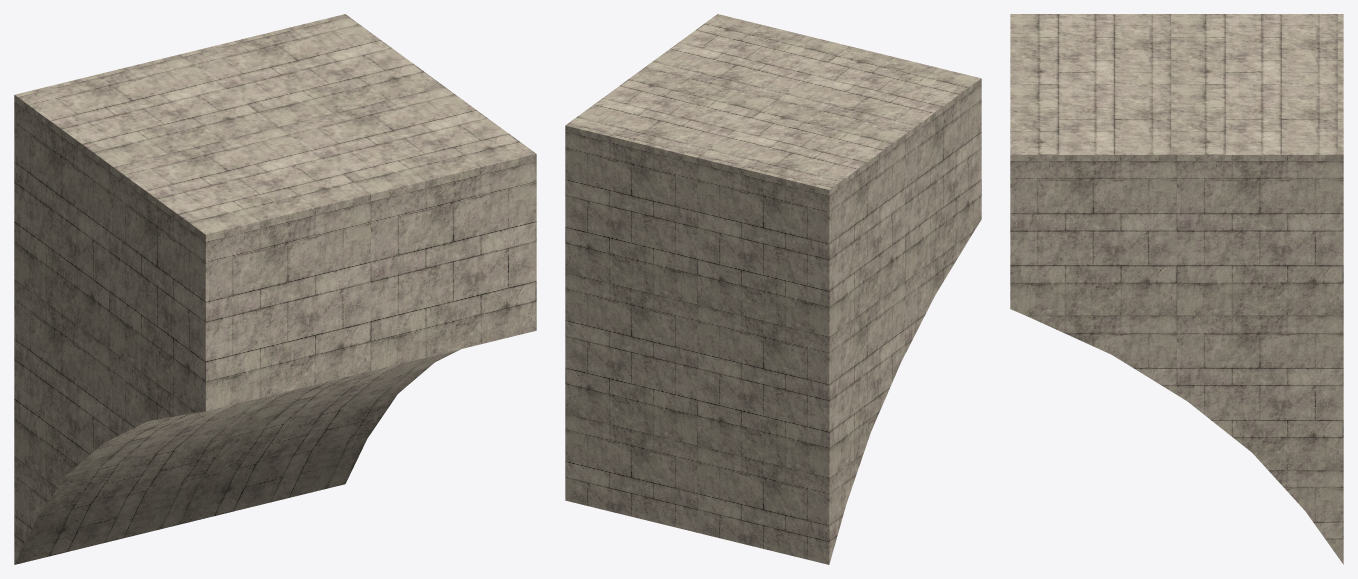
The model's file is AbutmentMarbleCenter.dae.
The picture shows the model from 3 angles, left to right: view 1: azimuth 30°, elevation 25°; view 2: azimuth 150°, elevation 25°; view 3: azimuth 270°, elevation 25°; orthographic projection. The views are drawn at different scales.
Visible parts, largest first — view 1: AbutmentMarbleCenter; view 2: AbutmentMarbleCenter; view 3: AbutmentMarbleCenter.
Boxes of the visible parts, x1,y1,x2,y2 form: AbutmentMarbleCenter: (14, 14, 536, 564); AbutmentMarbleCenter: (565, 14, 981, 564); AbutmentMarbleCenter: (1010, 14, 1343, 564).
Bounding box in the file's own units: 4 × 5.43 × 4.
Materials: 1 (1 with a texture image).
